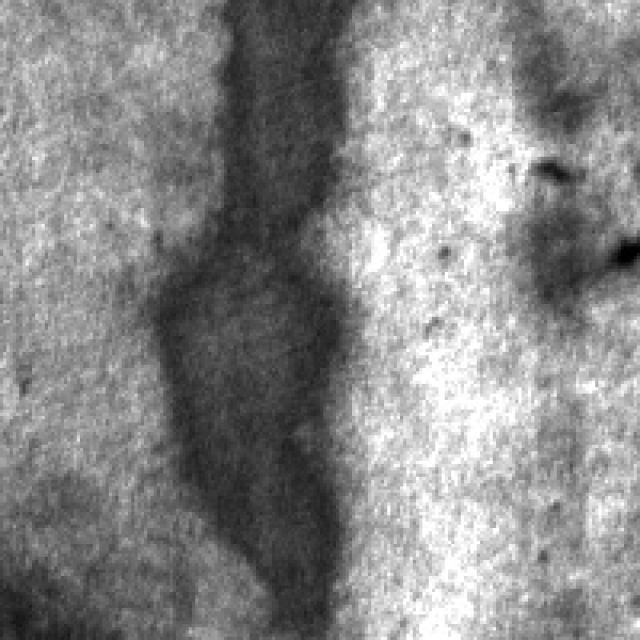patches: (150, 0, 349, 637), (508, 42, 634, 310)
